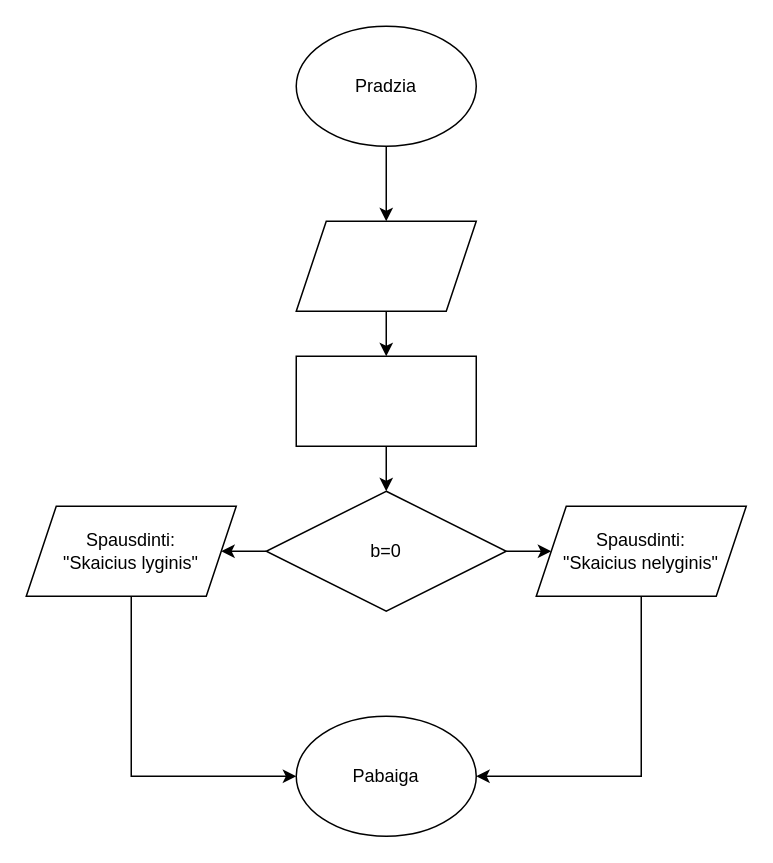
The diagram is 773 pixels wide and 863 high, and some of its shapes have lost their labels. Each missing label, with the centre of its shape:
"b=a%2" belongs at point 385,400.
"Ivesti a" belongs at point 385,265.
